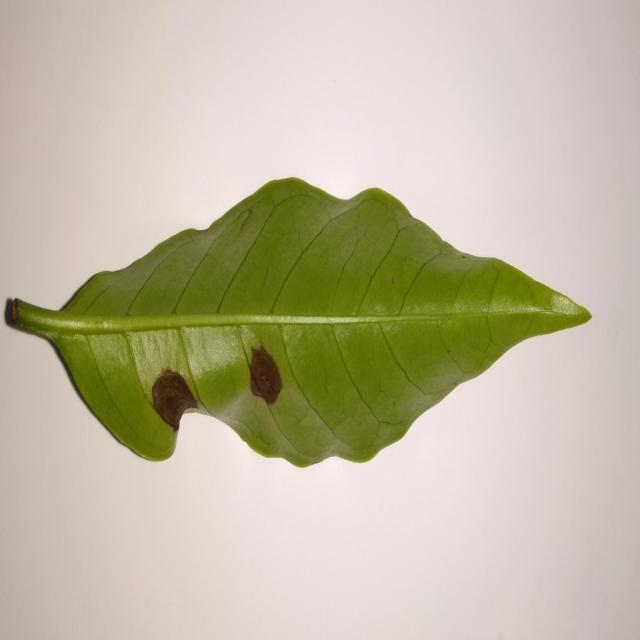Enfermedad-Antracnosis: (4, 178, 592, 471)
